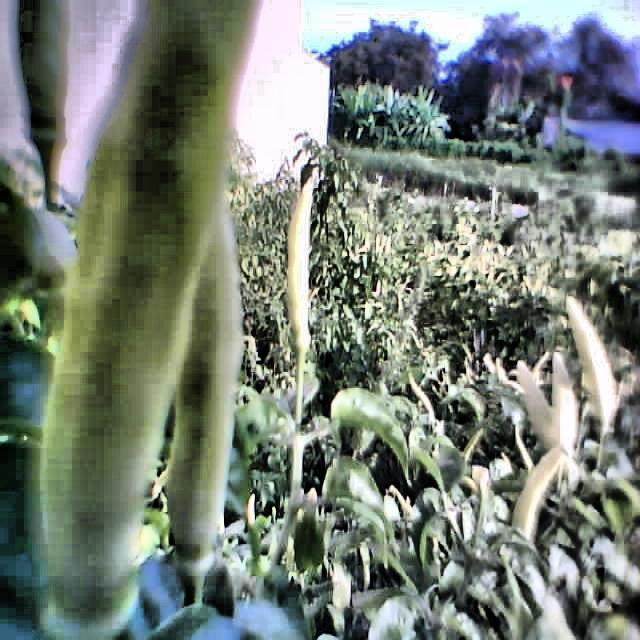Cabai: (25, 0, 232, 611), (265, 178, 370, 366), (550, 300, 640, 453), (518, 452, 557, 577)
